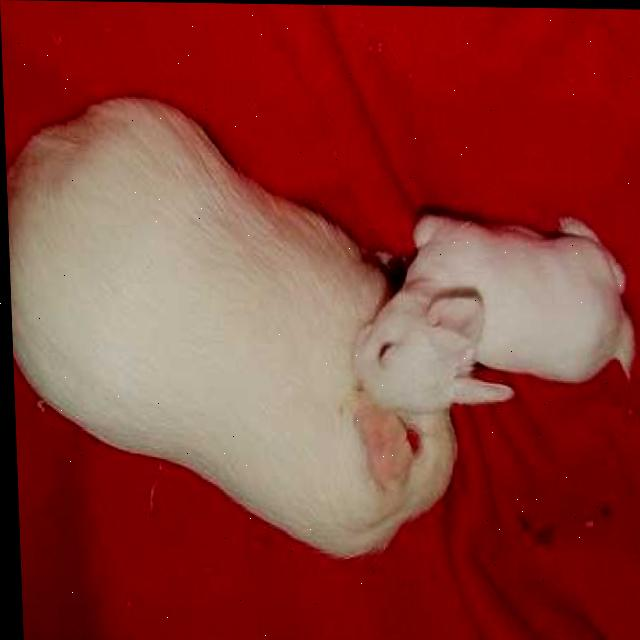guinea pig: (3, 98, 458, 563), (352, 216, 633, 415)
